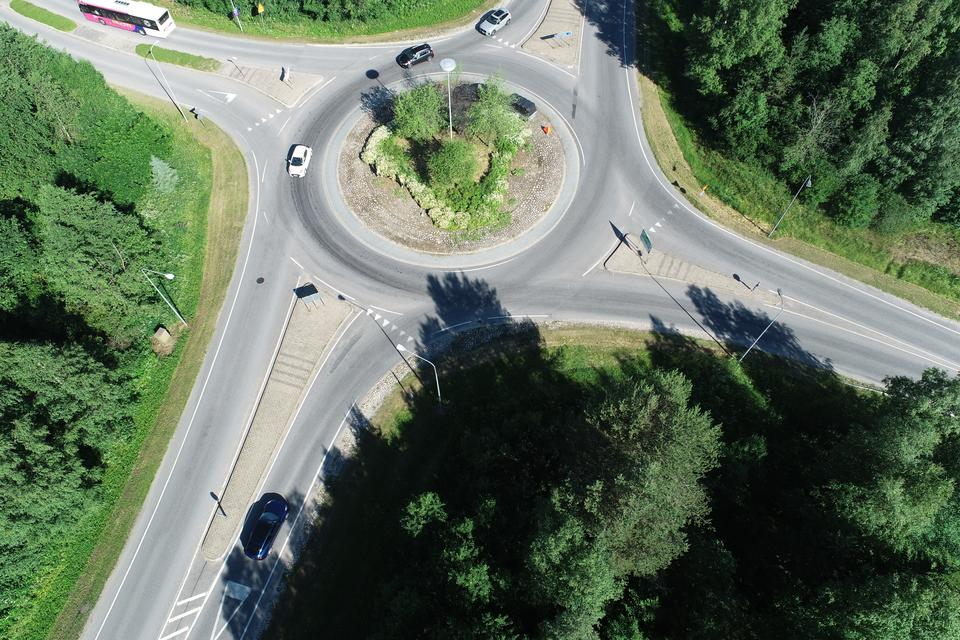roundabout: (199, 0, 715, 379)
